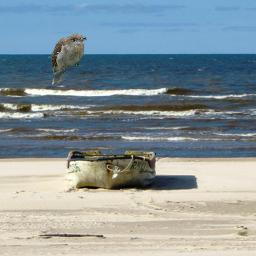Cuckoo: (50, 33, 87, 86)
